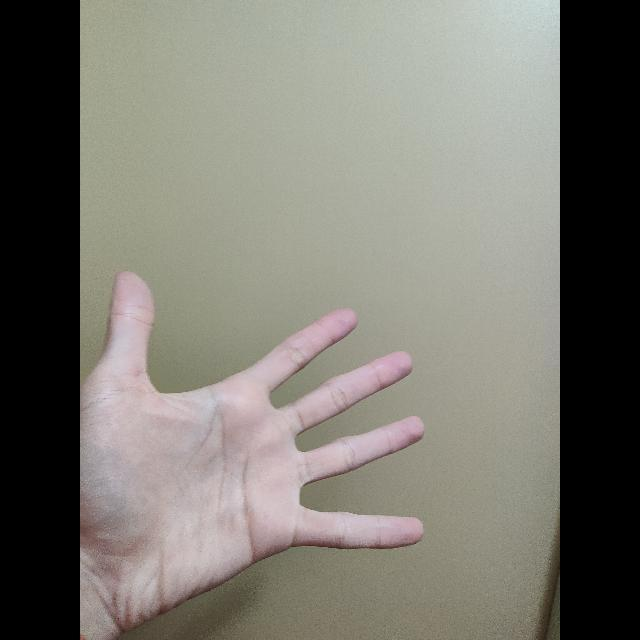bare_hand: (81, 262, 436, 640)
